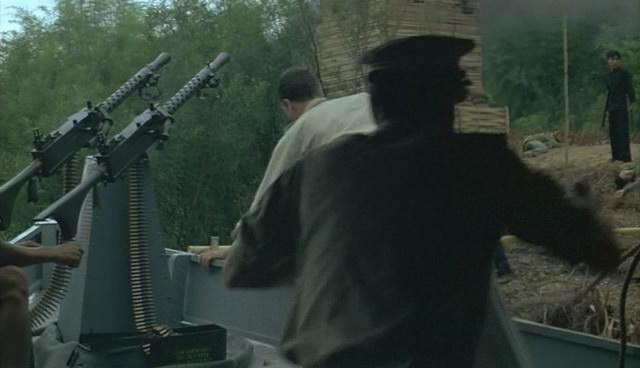gun: (22, 42, 248, 205)
